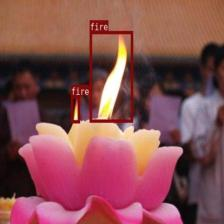fire: (89, 30, 133, 122), (70, 95, 79, 123)
